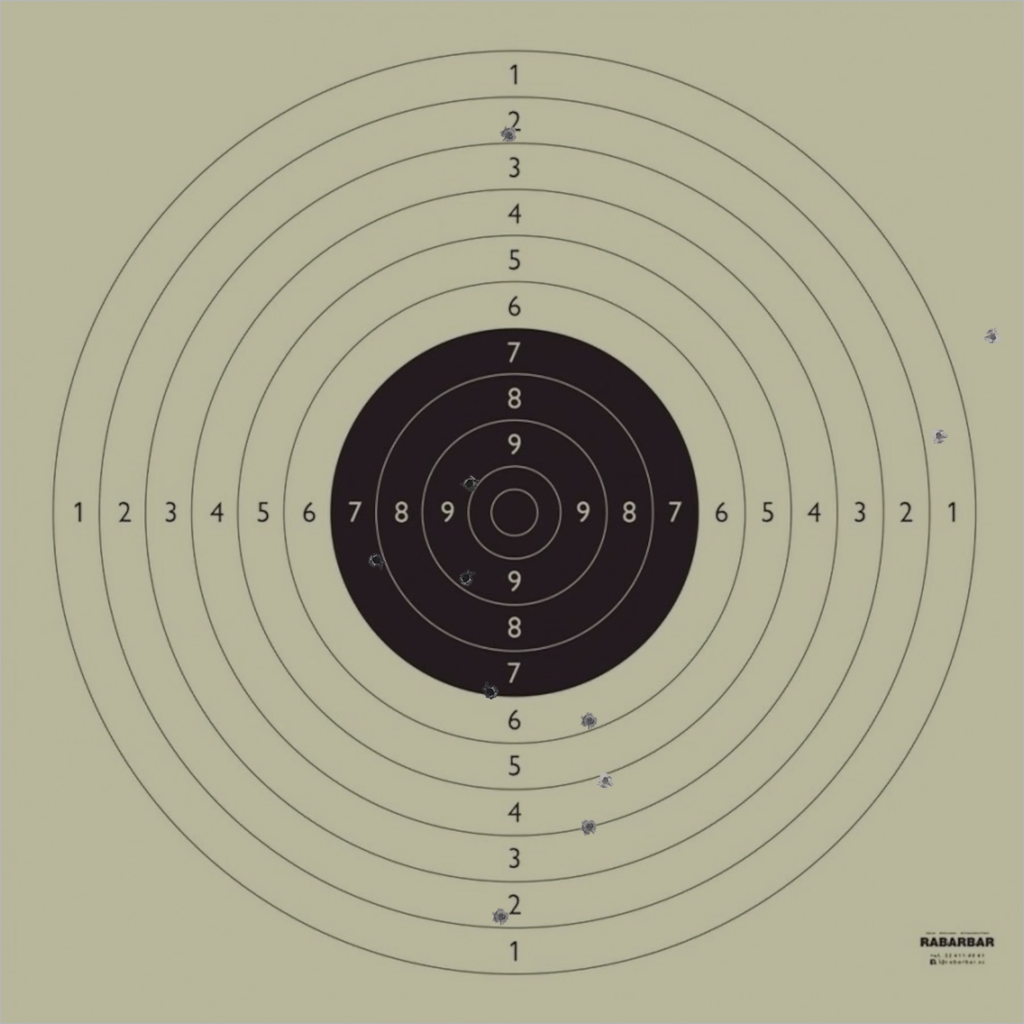0 punktow: (983, 328, 1002, 346)
1 punkt: (930, 427, 948, 445)
10 punktow: (461, 474, 479, 493)
2 punkty: (492, 907, 510, 926)
3 punkty: (500, 126, 518, 145)
4 punkty: (580, 818, 598, 836)
5 punktow: (596, 771, 615, 790)
6 punktow: (580, 712, 599, 730)
7 punktow: (481, 682, 500, 701)
8 punktow: (367, 551, 386, 570)
9 punktow: (457, 569, 475, 587)
